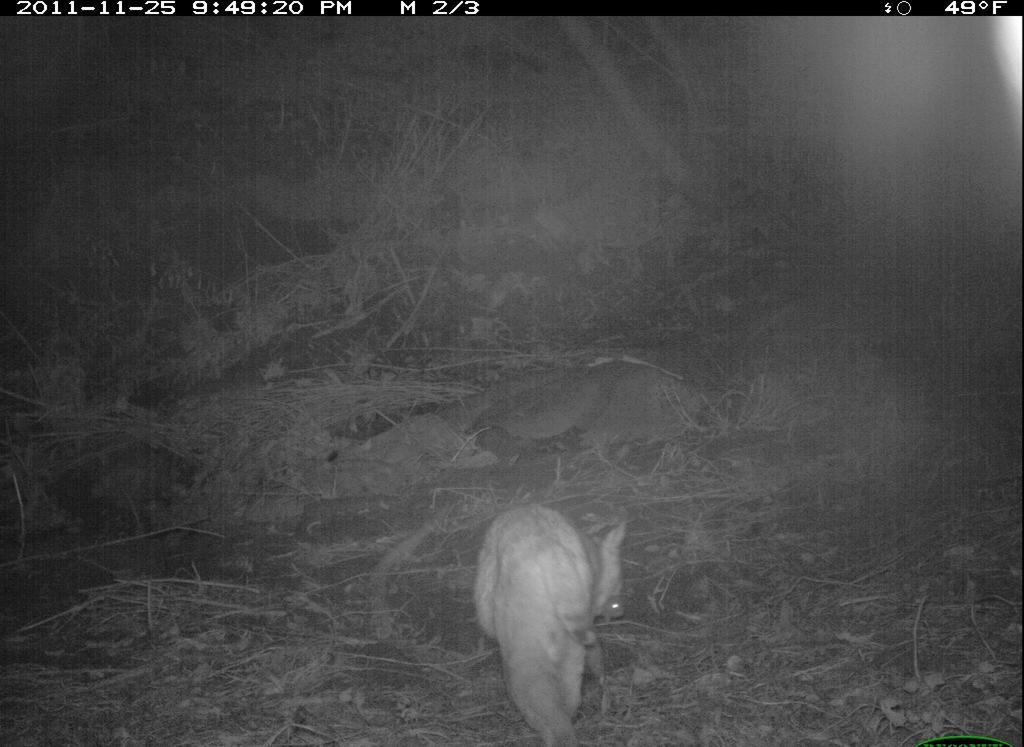bobcat: (461, 489, 655, 747)
